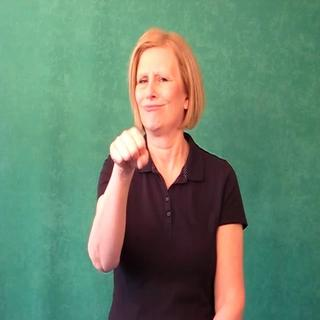yes: (101, 125, 153, 174)
